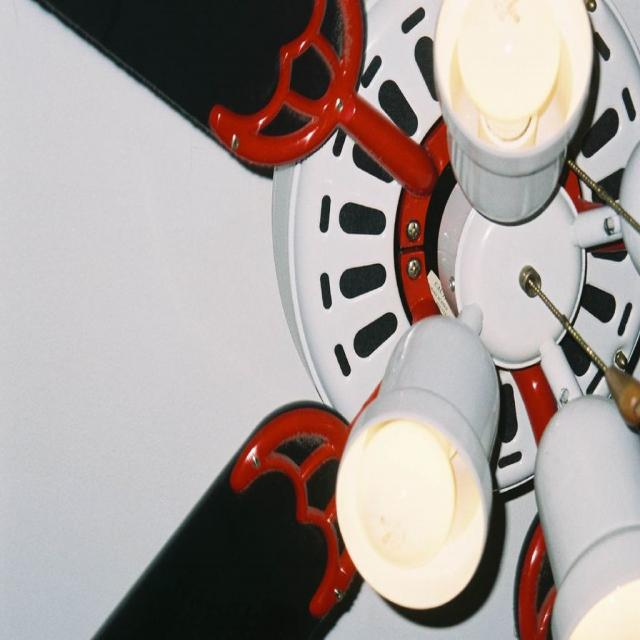Bulb: (25, 0, 624, 640)
